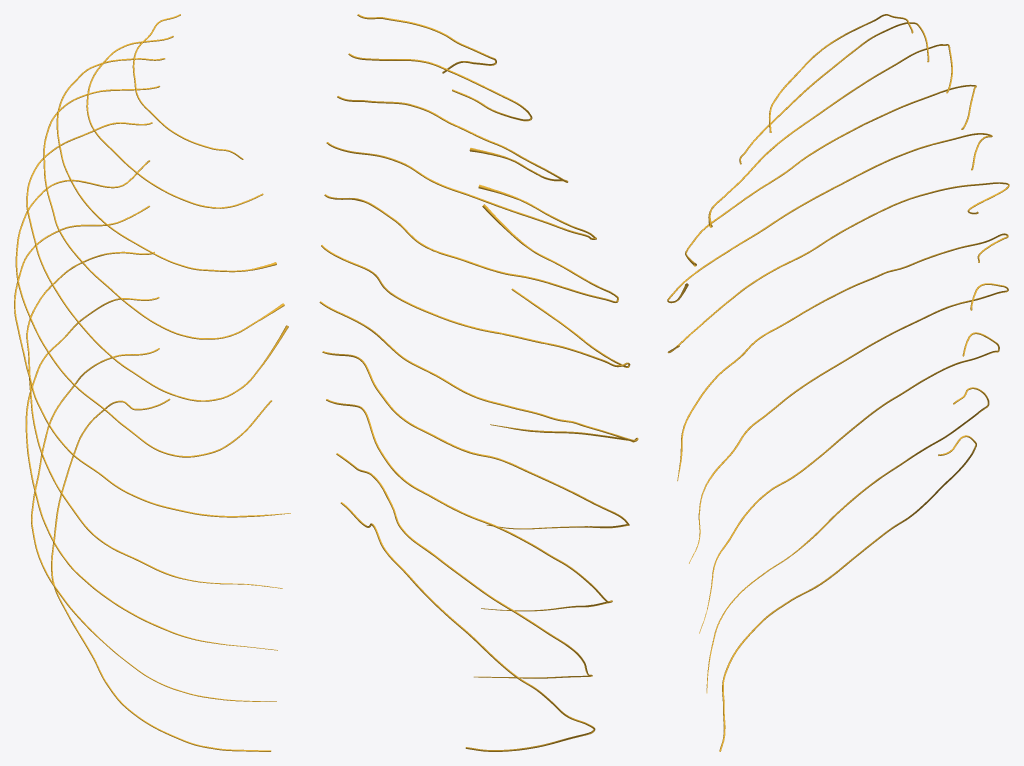
The model's file is nervoso-intercostal-nerves-r.glb.
3 renders of one model, left to right at view 1: azimuth 30°, elevation 25°; view 2: azimuth 150°, elevation 25°; view 3: azimuth 270°, elevation 25°, orthographic. The views are drawn at different scales.
Parts seen in each view (by area): view 1: Intercostal nerves.r; view 2: Intercostal nerves.r; view 3: Intercostal nerves.r.
Boxes of the visible parts, x1,y1,x2,y2 form: Intercostal nerves.r: (14, 14, 290, 751); Intercostal nerves.r: (319, 14, 638, 751); Intercostal nerves.r: (667, 14, 1009, 751).
Bounding box in the file's own units: 0.1252 × 0.4538 × 0.1955.
